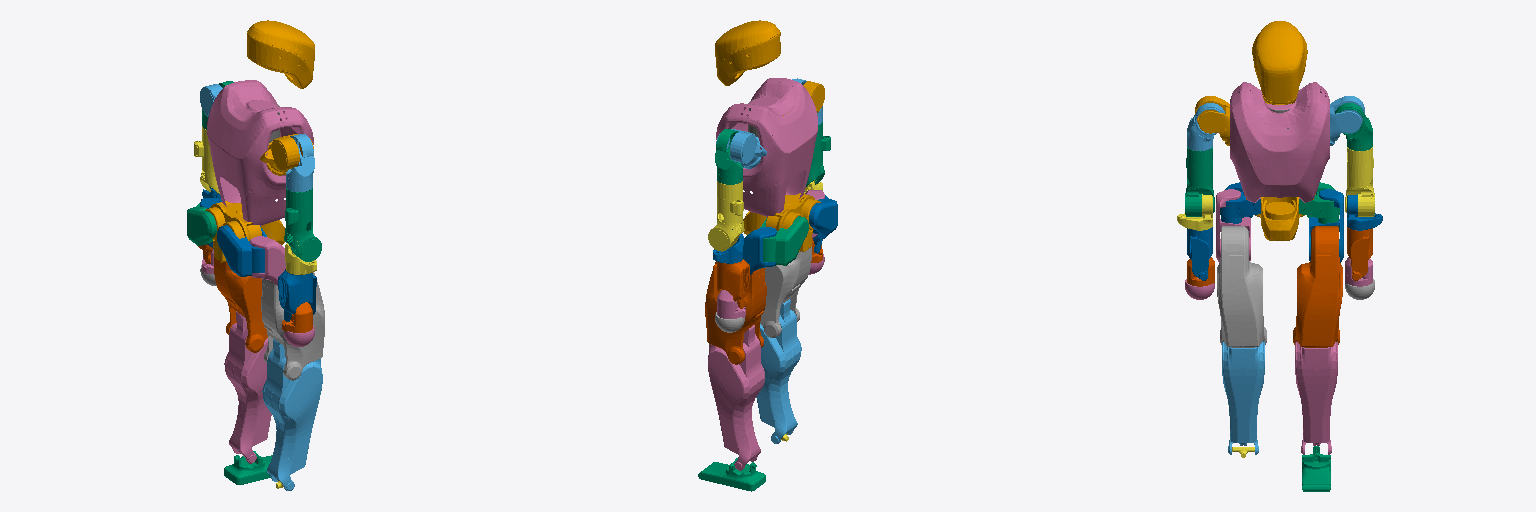
--- Render facts (derived) ---
The picture shows the robot from 3 angles, left to right: view 1: azimuth 30°, elevation 25°; view 2: azimuth 150°, elevation 25°; view 3: azimuth 270°, elevation 25°; orthographic projection.
Model Alexander with 41 links and 40 joints (29 revolute, 11 fixed), rooted at PELVIS_LINK, posed all joints at 0.
Visible links, largest first — view 1: TORSO_LINK, RIGHT_SHIN, LEFT_SHIN, HEAD_LINK, RIGHT_THIGH, LEFT_THIGH, RIGHT_SHOULDER_Z_LINK, PELVIS_LINK, RIGHT_HIP_X_LINK, RIGHT_WRIST_Z_LINK, RIGHT_SHOULDER_X_LINK, RIGHT_SHOULDER_Y_LINK (+6 smaller); view 2: TORSO_LINK, LEFT_SHIN, RIGHT_SHIN, HEAD_LINK, LEFT_THIGH, RIGHT_THIGH, LEFT_SHOULDER_Z_LINK, PELVIS_LINK, LEFT_HIP_X_LINK, LEFT_FOOT, LEFT_WRIST_Z_LINK, LEFT_SHOULDER_X_LINK (+5 smaller); view 3: TORSO_LINK, LEFT_THIGH, RIGHT_THIGH, HEAD_LINK, LEFT_SHIN, RIGHT_SHIN, LEFT_SHOULDER_Z_LINK, RIGHT_SHOULDER_Z_LINK, PELVIS_LINK, LEFT_FOOT, LEFT_WRIST_Z_LINK, RIGHT_WRIST_Z_LINK (+10 smaller).
Link boxes in pixels (box(x1,y1,x2,y2)): TORSO_LINK: box(207, 80, 313, 225); RIGHT_SHIN: box(262, 339, 322, 490); LEFT_SHIN: box(224, 311, 271, 463); HEAD_LINK: box(247, 20, 314, 88); RIGHT_THIGH: box(261, 272, 324, 380); LEFT_THIGH: box(214, 257, 267, 352); RIGHT_SHOULDER_Z_LINK: box(284, 188, 321, 261); PELVIS_LINK: box(205, 201, 284, 262); RIGHT_HIP_X_LINK: box(217, 225, 266, 276); RIGHT_WRIST_Z_LINK: box(278, 269, 316, 321); RIGHT_SHOULDER_X_LINK: box(286, 134, 314, 191); RIGHT_SHOULDER_Y_LINK: box(260, 134, 313, 175); TORSO_LINK: box(716, 78, 817, 216); LEFT_SHIN: box(708, 325, 764, 470); RIGHT_SHIN: box(756, 299, 801, 443); HEAD_LINK: box(715, 20, 780, 85); LEFT_THIGH: box(705, 261, 766, 364); RIGHT_THIGH: box(760, 246, 811, 337); LEFT_SHOULDER_Z_LINK: box(708, 181, 744, 251); PELVIS_LINK: box(743, 193, 820, 251); LEFT_HIP_X_LINK: box(760, 216, 808, 265); LEFT_FOOT: box(698, 458, 765, 491); LEFT_WRIST_Z_LINK: box(713, 259, 749, 308); LEFT_SHOULDER_X_LINK: box(715, 129, 742, 184); TORSO_LINK: box(1230, 82, 1329, 202); LEFT_THIGH: box(1293, 226, 1342, 347); RIGHT_THIGH: box(1217, 226, 1266, 347); HEAD_LINK: box(1252, 21, 1307, 104); LEFT_SHIN: box(1295, 341, 1337, 454); RIGHT_SHIN: box(1222, 341, 1264, 454); LEFT_SHOULDER_Z_LINK: box(1345, 147, 1374, 216); RIGHT_SHOULDER_Z_LINK: box(1185, 147, 1214, 216); PELVIS_LINK: box(1244, 194, 1315, 240); LEFT_FOOT: box(1302, 446, 1330, 491); LEFT_WRIST_Z_LINK: box(1347, 227, 1372, 280); RIGHT_WRIST_Z_LINK: box(1187, 227, 1212, 280).
Size in the robot's own frame: 0.3595 by 0.6749 by 1.63 metres.
Meshes: 29 distinct files referenced, 29 mesh visuals loaded (27 OBJ); not drawn: 2 (reference not matched to a file when rendering).

robot.urdf — Alexander:
<?xml version = "1.0" ?>
<robot name="Alexander">

    <!-- NECK JOINTS -->
    <joint name="NECK_Z" type="revolute">
        <origin rpy="0 0 0" xyz="0.005 0 0.307953"/> <!-- placeholder for the joint location -->
        <axis xyz="0 0 1"/>
        <parent link="TORSO_LINK"/>
        <child link="NECK_Z_LINK"/>
        <limit effort="20" lower="-1.5708" upper="1.5708" velocity="20"/>
        <dynamics damping="0.05" friction="0.0"/>
    </joint>
    <joint name="NECK_Y" type="revolute">
        <origin rpy="0 0 0" xyz="0.025 0.01 0.207252"/>
        <axis xyz="0 1 0"/>
        <parent link="NECK_Z_LINK"/>
        <child link="HEAD_LINK"/>
        <limit effort="20" lower="-1.0472" upper="1.0472" velocity="20"/>
        <dynamics damping="0.05" friction="0.0"/>
    </joint>

    <!-- SPINE JOINTS -->
    <joint name="SPINE_Z" type="revolute">
        <origin rpy="0 0 0" xyz="0.0 0 0.018"/> <!-- check with CAD -->
        <axis xyz="0 0 1"/>
        <parent link="PELVIS_LINK"/>
        <child link="TORSO_LINK"/>
        <limit effort="150" lower="-0.5235987756" upper="0.5235987756" velocity="9.0"/>
        <dynamics damping="0.05" friction="0.0"/>
    </joint>

    <!-- LEFT LEG JOINTS -->
    <joint name="LEFT_HIP_X" type="revolute">
        <origin rpy="0 0 0" xyz="-0.162	0.0595	-0.015"/>
        <axis xyz="1 0 0"/>
        <parent link="PELVIS_LINK"/>
        <child link="LEFT_HIP_X_LINK"/>
        <limit effort="150" lower="-0.3490658504 " upper="0.872664626" velocity="9"/>
        <dynamics damping="0.05" friction="0.0"/>
    </joint>
    <joint name="LEFT_HIP_Z" type="revolute">
        <origin rpy="0 0 0" xyz="0.06	0.1	-0.08"/>
        <axis xyz="0 0 1"/>
        <parent link="LEFT_HIP_X_LINK"/>
        <child link="LEFT_HIP_Z_LINK"/>
        <limit effort="60" lower="-0.3490658504" upper="1.0472" velocity="11"/>
        <dynamics damping="0.05" friction="0.0"/>
    </joint>
    <joint name="LEFT_HIP_Y" type="revolute">
        <origin rpy="0 0 0" xyz="0.1045	-0.0573	-0.0525"/>
        <axis xyz="0 1 0"/>
        <parent link="LEFT_HIP_Z_LINK"/>
        <child link="LEFT_THIGH"/>
        <limit effort="200" lower="-2.61799" upper="0.785398" velocity="8"/>
        <dynamics damping="0.05" friction="0.0"/>
    </joint>
    <joint name="LEFT_KNEE_Y" type="revolute">
        <origin rpy="0 0 0" xyz="0	0.018	-0.32"/>
        <axis xyz="0 1 0"/>
        <parent link="LEFT_THIGH"/>
        <child link="LEFT_SHIN"/>
        <limit effort="200" lower="0" upper="2.445206282" velocity="8"/>
        <dynamics damping="0.05" friction="0.0"/>
    </joint>
    <joint name="LEFT_ANKLE_Y" type="revolute">
        <origin rpy="0 0 0" xyz="0	0	-0.41"/>
        <axis xyz="0 1 0"/>
        <parent link="LEFT_SHIN"/>
        <child link="LEFT_ANKLE_Y_LINK"/>
        <limit effort="180" lower="-1.0472" upper="0.523599" velocity="8"/>
        <dynamics damping="0.05" friction="0.0"/>
    </joint>
    <joint name="LEFT_ANKLE_X" type="revolute">
        <origin rpy="0 0 0" xyz="0	0	-0.012"/>
        <axis xyz="1 0 0"/>
        <parent link="LEFT_ANKLE_Y_LINK"/>
        <child link="LEFT_FOOT"/>
        <limit effort="90" lower="-0.436332" upper="0.436332" velocity="8"/>
        <dynamics damping="0.05" friction="0.0"/>
    </joint>

    <!-- RIGHT LEG JOINTS -->
    <joint name="RIGHT_HIP_X" type="revolute">
        <origin rpy="0 0 0" xyz="-0.162	-0.0595	-0.015"/>
        <axis xyz="1 0 0"/>
        <parent link="PELVIS_LINK"/>
        <child link="RIGHT_HIP_X_LINK"/>
        <limit effort="150" lower="-0.872664626" upper="0.3490658504" velocity="9"/>
        <dynamics damping="0.05" friction="0.0"/>
    </joint>
    <joint name="RIGHT_HIP_Z" type="revolute">
        <origin rpy="0 0 0" xyz="0.06	-0.1	-0.08"/>
        <axis xyz="0 0 1"/>
        <parent link="RIGHT_HIP_X_LINK"/>
        <child link="RIGHT_HIP_Z_LINK"/>
        <limit effort="60" lower="-1.0472" upper="0.3490658504" velocity="11"/>
        <dynamics damping="0.05" friction="0.0"/>
    </joint>
    <joint name="RIGHT_HIP_Y" type="revolute">
        <origin rpy="0 0 0" xyz="0.1045	0.0573	-0.0525"/>
        <axis xyz="0 1 0"/>
        <parent link="RIGHT_HIP_Z_LINK"/>
        <child link="RIGHT_THIGH"/>
        <limit effort="200" lower="-2.61799" upper="0.785398" velocity="8"/>
        <dynamics damping="0.05" friction="0.0"/>
    </joint>
    <joint name="RIGHT_KNEE_Y" type="revolute">
        <origin rpy="0 0 0" xyz="0	-0.018	-0.32"/>
        <axis xyz="0 1 0"/>
        <parent link="RIGHT_THIGH"/>
        <child link="RIGHT_SHIN"/>
        <limit effort="200" lower="0" upper="2.445206282" velocity="8"/>
        <dynamics damping="0.05" friction="0.0"/>
    </joint>
    <joint name="RIGHT_ANKLE_Y" type="revolute">
        <origin rpy="0 0 0" xyz="0	0	-0.41"/>
        <axis xyz="0 1 0"/>
        <parent link="RIGHT_SHIN"/>
        <child link="RIGHT_ANKLE_Y_LINK"/>
        <limit effort="180" lower="-1.0472" upper="0.523599" velocity="8"/>
        <dynamics damping="0.05" friction="0.0"/>
    </joint>
    <joint name="RIGHT_ANKLE_X" type="revolute">
        <origin rpy="0 0 0" xyz="0	0	-0.012"/>
        <axis xyz="1 0 0"/>
        <parent link="RIGHT_ANKLE_Y_LINK"/>
        <child link="RIGHT_FOOT"/>
        <limit effort="90" lower="-0.436332" upper="0.436332" velocity="8"/>
        <dynamics damping="0.05" friction="0.0"/>
    </joint>


    <!-- LINKS -->
    <link name="PELVIS_LINK">
        <inertial>
            <mass value="9.50083635"/>
            <origin rpy="0 0 0" xyz="-0.08354287 0.00005291 -0.03484828"/>
            <inertia ixx="0.03428688" ixy="0.00001151" ixz="0.00015935" iyy="0.05178848" iyz="0.00004514" izz="0.06001929"/>
        </inertial>
        <visual>
            <geometry>
                <mesh filename="package://alexander_V1_description/meshes/legs/pelvis.obj"/>
            </geometry>
            <origin rpy="0.0 0.0 0.0" xyz="0.0 0.0 0.0"/>
        </visual>
    </link>
    <!-- pelvis_stim_imu -->
    <joint name="PELVIS_STIM_IMU_JOINT" type="fixed">
        <parent link="PELVIS_LINK"/>
        <child link="PELVIS_STIM_IMU_LINK"/>
        <origin xyz="-0.08687724 0.01225028 -0.08051472" rpy="0.0 0.0 1.570796"/>
    </joint>

    <link name="PELVIS_STIM_IMU_LINK">
        <inertial>
            <mass value="0.0"/>
            <origin xyz="0 0 0" rpy="0 0 0"/>
            <inertia ixx="0.0" ixy="0.0" ixz="0.0" iyy="0.0" iyz="0.0" izz="0.0"/>
        </inertial>
    </link>

    <gazebo reference="PELVIS_STIM_IMU_LINK">
        <sensor name="pelvis_stim_imu" type="imu">
            <always_on>1</always_on>
            <update_rate>1000.0</update_rate>
            <imu>
                <noise>
                    <type>gaussian</type>
                    <rate>
                        <mean>0.0</mean>
                        <stddev>2e-4</stddev>
                        <bias_mean>0.0000075</bias_mean>
                        <bias_stddev>0.0000008</bias_stddev>
                    </rate>
                    <accel>
                        <mean>0.0</mean>
                        <stddev>1.7e-2</stddev>
                        <bias_mean>0.1</bias_mean>
                        <bias_stddev>0.001</bias_stddev>
                    </accel>
                </noise>
            </imu>
        </sensor>
    </gazebo>
    <!-- end pelvis imu -->

    <!-- LEFT LEG LINKS -->
    <link name="LEFT_HIP_X_LINK">
        <inertial>
            <mass value="2.32977961"/>
            <origin rpy="0 0 0" xyz="0.04350911	0.08708606 -0.03525761"/>
            <inertia ixx="0.00467452" ixy="-0.00058626" ixz="0.00013124" iyy="0.00516613" iyz="0.00048141" izz="0.00553124"/>
        </inertial>
        <visual>
            <geometry>
                <mesh filename="package://alexander_V1_description/meshes/legs/left_hip_roll.obj"/>
            </geometry>
            <origin rpy="0.0 0.0 0.0" xyz="0.0 0.0 0.0"/>
        </visual>
    </link>
    
    <!-- LeftHipRollIMU-->
	<link name="LEFT_HIP_X_IMU_LINK">
		<inertial>
			<mass value="0"/>
			<origin rpy="0 0 0" xyz="0 0 0"/>
			<inertia ixx="0.0" ixy="0.0" ixz="0.0" iyy="0.0" iyz="0.0" izz="0.0"/>
		</inertial>
	</link>
	<joint name="LEFT_HIP_X_IMU_JOINT" type="fixed">
		<origin rpy="-1.570796 0 1.570796" xyz="-0.01922309 0.10145013 -0.01488788"/>
		<axis xyz="0 0 1"/>
		<parent link="LEFT_HIP_X_LINK"/>
		<child link="LEFT_HIP_X_IMU_LINK"/>
	</joint>
	<gazebo reference="LEFT_HIP_X_IMU_JOINT">
		<sensor name="left_hip_x_IMU" type="imu">
			<always_on>true</always_on>
			<imu>
				<noise>
					<type>gaussian</type>
					<rate>
						<mean>0</mean>
						<stddev>0.0002</stddev>
						<bias_mean>7.5e-06</bias_mean>
						<bias_stddev>8e-07</bias_stddev>
					</rate>
					<accel>
						<mean>0</mean>
						<stddev>0.017</stddev>
						<bias_mean>0.1</bias_mean>
						<bias_stddev>0.001</bias_stddev>
					</accel>
				</noise>
			</imu>
		</sensor>
	</gazebo>
    
    
    <link name="LEFT_HIP_Z_LINK">
         <inertial>
             <mass value="0.77281362"/>
             <origin rpy="0 0 0" xyz="0.04549595	-0.00525571	-0.00937454"/>
             <inertia ixx="0.00317639" ixy="0.00005807" ixz="0.00080598" iyy="0.00345182" iyz="0.00047441" izz="0.00313245"/>
         </inertial>
         <visual>
             <geometry>
                 <mesh filename="package://alexander_V1_description/meshes/legs/left_hip_yaw.obj"/>
             </geometry>
             <origin rpy="0.0 0.0 0.0" xyz="0 0 0"/>
         </visual>
     </link>
     <link name="LEFT_THIGH">
         <inertial>
             <mass value="7.75"/><!-- CAD Mass 6.31087157 (Hacked April 1 2025 to match IRL Scale of whole robot) -->
             <origin rpy="0 0 0" xyz="0.01417302	0.03268781	-0.10548314"/>
             <inertia ixx="0.09264028" ixy="0.00038532" ixz="0.00916409" iyy="0.09733033" iyz="-0.0043516" izz="0.02803877"/>
         </inertial>
         <visual>
             <geometry>
                 <mesh filename="package://alexander_V1_description/meshes/legs/left_thigh.obj"/>
             </geometry>
             <origin rpy="0.0 0.0 0.0" xyz="0 0 0"/>
         </visual>
     </link>
    <link name="LEFT_SHIN">
        <inertial>
            <mass value="5.5"/><!-- CAD Mass 6.31087157 (Hacked April 1 2025 to match IRL Scale of whole robot) -->
            <origin rpy="0 0 0" xyz="0.03807965	-0.00108105	-0.12410027"/>
            <inertia ixx="0.08823148" ixy="-0.00054706" ixz="-0.00634132" iyy="0.09163264" iyz="0.00002714" izz="0.01569601"/>
        </inertial>
        <visual>
            <geometry>
                <mesh filename="package://alexander_V1_description/meshes/legs/left_shin.obj"/>
            </geometry>
            <origin rpy="0.0 0.0 0.0" xyz="0 0 0"/>
        </visual>
    </link>
    
    <!-- LeftThighIMU-->
    <link name="LEFT_THIGH_IMU_LINK">
        <inertial>
            <mass value="0"/>
            <origin rpy="0 0 0" xyz="0 0 0"/>
            <inertia ixx="0.0" ixy="0.0" ixz="0.0" iyy="0.0" iyz="0.0" izz="0.0"/>
        </inertial>
    </link>
    <joint name="LEFT_THIGH_IMU_JOINT" type="fixed">
        <origin rpy="1.6947717585 0 1.570796" xyz="0.10004 0.03746 -0.21194"/>
        <axis xyz="0 0 1"/>
        <parent link="LEFT_THIGH"/>
        <child link="LEFT_THIGH_IMU_LINK"/>
    </joint>
    <gazebo reference="LEFT_THIGH_IMU_LINK">
        <sensor name="left_thigh_imu" type="imu">
            <always_on>true</always_on>
            <imu>
                <noise>
                    <type>gaussian</type>
                    <rate>
                        <mean>0</mean>
                        <stddev>0.0002</stddev>
                        <bias_mean>7.5e-06</bias_mean>
                        <bias_stddev>8e-07</bias_stddev>
                    </rate>
                    <accel>
                        <mean>0</mean>
                        <stddev>0.017</stddev>
                        <bias_mean>0.1</bias_mean>
                        <bias_stddev>0.001</bias_stddev>
                    </accel>
                </noise>
            </imu>
        </sensor>
    </gazebo>
    
    <!-- LeftShinIMU-->
	<link name="LEFT_SHIN_IMU_LINK">
		<inertial>
			<mass value="0"/>
			<origin rpy="0 0 0" xyz="0 0 0"/>
			<inertia ixx="0.0" ixy="0.0" ixz="0.0" iyy="0.0" iyz="0.0" izz="0.0"/>
		</inertial>
	</link>
	<joint name="LEFT_SHIN_IMU_JOINT" type="fixed">
		<origin rpy="1.403695170631842 0 -1.570796" xyz="0.05655120 0.00084826 -0.15664831"/>
		<axis xyz="0 0 1"/>
		<parent link="LEFT_SHIN"/>
		<child link="LEFT_SHIN_IMU_LINK"/>
	</joint>
	<gazebo reference="LEFT_SHIN_IMU_LINK">
		<sensor name="left_shin_imu" type="imu">
			<always_on>true</always_on>
			<imu>
				<noise>
					<type>gaussian</type>
					<rate>
						<mean>0</mean>
						<stddev>0.0002</stddev>
						<bias_mean>7.5e-06</bias_mean>
						<bias_stddev>8e-07</bias_stddev>
					</rate>
					<accel>
						<mean>0</mean>
						<stddev>0.017</stddev>
						<bias_mean>0.1</bias_mean>
						<bias_stddev>0.001</bias_stddev>
					</accel>
				</noise>
			</imu>
		</sensor>
	</gazebo>

    
    <link name="LEFT_ANKLE_Y_LINK">
        <inertial>
            <mass value="0.05045632"/>
            <origin rpy="0 0 0" xyz="2.94E-07	2.22E-07	-0.00462997"/>
            <inertia ixx="0.00001733" ixy="2.12E-10" ixz="-1.26E-10" iyy="0.00000714" iyz="-2.02E-11" izz="0.00001851"/>
        </inertial>
        <visual>
            <geometry>
                <mesh filename="package://alexander_V1_description/meshes/legs/left_ankle.obj"/>
            </geometry>
            <origin rpy="0.0 0.0 0.0" xyz="0 0 0"/>
        </visual>
    </link>
    <link name="LEFT_FOOT">
        <inertial>
            <mass value="1.28288609"/>
            <origin rpy="0 0 0" xyz="0.03793372	-0.00000219	-0.0443663"/>
            <inertia ixx="0.00131328" ixy="0.00001057" ixz="0.00036242" iyy="0.00385286" iyz="-0.0000069" izz="0.00406301"/>
        </inertial>
        <visual>
            <geometry>
                <mesh filename="package://alexander_V1_description/meshes/legs/left_foot.obj"/>
            </geometry>
            <origin rpy="0.0 0.0 0.0" xyz="0 0 0"/>
        </visual>
    </link>
    
    <!-- LeftFootIMU-->
	<link name="LEFT_FOOT_IMU_LINK">
		<inertial>
			<mass value="0"/>
			<origin rpy="0 0 0" xyz="0 0 0"/>
			<inertia ixx="0.0" ixy="0.0" ixz="0.0" iyy="0.0" iyz="0.0" izz="0.0"/>
		</inertial>
	</link>
	<joint name="LEFT_FOOT_IMU_JOINT" type="fixed">
		<origin rpy="0 0 1.570796" xyz="-0.03575526 0.01180178 -0.04979705"/>
		<axis xyz="0 0 1"/>
		<parent link="LEFT_FOOT"/>
		<child link="LEFT_FOOT_IMU_LINK"/>
	</joint>
	<gazebo reference="LEFT_FOOT_IMU_LINK">
		<sensor name="left_foot_imu" type="imu">
			<always_on>true</always_on>
			<imu>
				<noise>
					<type>gaussian</type>
					<rate>
						<mean>0</mean>
						<stddev>0.0002</stddev>
						<bias_mean>7.5e-06</bias_mean>
						<bias_stddev>8e-07</bias_stddev>
					</rate>
					<accel>
						<mean>0</mean>
						<stddev>0.017</stddev>
						<bias_mean>0.1</bias_mean>
						<bias_stddev>0.001</bias_stddev>
					</accel>
				</noise>
			</imu>
		</sensor>
	</gazebo>


    <!-- RIGHT LEG LINKS -->
    <link name="RIGHT_HIP_X_LINK">
        <inertial>
            <mass value="2.32977248"/>
            <origin rpy="0 0 0" xyz="0.04351957	-0.08688935	-0.03525357"/>
            <inertia ixx="0.00467576" ixy="0.00061004" ixz="0.00013038" iyy="0.00516385" iyz="-0.00047381" izz="0.00552901"/>
        </inertial>
        <visual>
            <geometry>
                <mesh filename="package://alexander_V1_description/meshes/legs/right_hip_roll.obj"/>
            </geometry>
            <origin rpy="0.0 0.0 0.0" xyz="0.0 0.0 0.0"/>
        </visual>
    </link>

    <!-- RightHipRollIMU-->
	<link name="RIGHT_HIP_X_IMU_LINK">
		<inertial>
			<mass value="0"/>
			<origin rpy="0 0 0" xyz="0 0 0"/>
			<inertia ixx="0.0" ixy="0.0" ixz="0.0" iyy="0.0" iyz="0.0" izz="0.0"/>
		</inertial>
	</link>
	<joint name="RIGHT_HIP_ROLL_IMU_JOINT" type="fixed">
		<origin rpy="-1.570796 0 1.570796" xyz="-0.01922309 -0.07694987 -0.01488788"/>
		<axis xyz="0 0 1"/>
		<parent link="RIGHT_HIP_X_LINK"/>
		<child link="RIGHT_HIP_X_IMU_LINK"/>
	</joint>
	<gazebo reference="RIGHT_HIP_X_IMU_LINK">
		<sensor name="right_hip_x_imu" type="imu">
			<always_on>true</always_on>
			<imu>
				<noise>
					<type>gaussian</type>
					<rate>
						<mean>0</mean>
						<stddev>0.0002</stddev>
						<bias_mean>7.5e-06</bias_mean>
						<bias_stddev>8e-07</bias_stddev>
					</rate>
					<accel>
						<mean>0</mean>
						<stddev>0.017</stddev>
						<bias_mean>0.1</bias_mean>
						<bias_stddev>0.001</bias_stddev>
					</accel>
				</noise>
			</imu>
		</sensor>
	</gazebo>

    <link name="RIGHT_HIP_Z_LINK">
        <inertial>
            <mass value="0.77281055"/>
            <origin rpy="0 0 0" xyz="0.04549274	0.00525784	-0.00937505"/>
            <inertia ixx="0.00317639" ixy="-0.00005765" ixz="0.00080587" iyy="0.00345166" iyz="-0.00047466" izz="0.00313223"/>
        </inertial>
        <visual>
            <geometry>
                <mesh filename="package://alexander_V1_description/meshes/legs/right_hip_yaw.obj"/>
            </geometry>
            <origin rpy="0.0 0.0 0.0" xyz="0 0 0"/>
        </visual>
    </link>
    <link name="RIGHT_THIGH">
        <inertial>
            <mass value="7.75"/><!-- CAD Mass 6.31087157 (Hacked April 1 2025 to match IRL Scale of whole robot) -->
            <origin rpy="0 0 0" xyz="0.01411846	-0.03282392	-0.10542795"/>
            <inertia ixx="0.09273162" ixy="-0.00026689" ixz="0.00921343" iyy="0.09738701" iyz="0.00422485" izz="0.02802165"/>
        </inertial>
        <visual>
            <geometry>
                <mesh filename="package://alexander_V1_description/meshes/legs/right_thigh.obj"/>
            </geometry>
            <origin rpy="0.0 0.0 0.0" xyz="0 0 0"/>
        </visual>
    </link>

    <!-- RightThighIMU-->
	<link name="RIGHT_THIGH_IMU_LINK">
		<inertial>
			<mass value="0"/>
			<origin rpy="0 0 0" xyz="0 0 0"/>
			<inertia ixx="0.0" ixy="0.0" ixz="0.0" iyy="0.0" iyz="0.0" izz="0.0"/>
		</inertial>
	</link>
	<joint name="RIGHT_THIGH_IMU_JOINT" type="fixed">
		<origin rpy="1.6947717585 0 1.570796" xyz="0.10003618 -0.033541826 -0.21194191"/>
		<axis xyz="0 0 1"/>
		<parent link="RIGHT_THIGH"/>
		<child link="RIGHT_THIGH_IMU_LINK"/>
	</joint>
	<gazebo reference="RIGHT_THIGH_IMU_LINK">
		<sensor name="right_thigh_imu" type="imu">
			<always_on>true</always_on>
			<imu>
				<noise>
					<type>gaussian</type>
					<rate>
						<mean>0</mean>
						<stddev>0.0002</stddev>
						<bias_mean>7.5e-06</bias_mean>
						<bias_stddev>8e-07</bias_stddev>
					</rate>
					<accel>
						<mean>0</mean>
						<stddev>0.017</stddev>
						<bias_mean>0.1</bias_mean>
						<bias_stddev>0.001</bias_stddev>
					</accel>
				</noise>
			</imu>
		</sensor>
	</gazebo>

    <link name="RIGHT_SHIN">
        <inertial>
            <mass value="5.5"/><!-- CAD Mass 6.31087157 (Hacked April 1 2025 to match IRL Scale of whole robot) -->
            <origin rpy="0 0 0" xyz="0.03807648	0.00113375	-0.12408765"/>
            <inertia ixx="0.08705693" ixy="0.00057277" ixz="-0.00674654" iyy="0.090231" iyz="0.00028332" izz="0.01554032"/>
        </inertial>
        <visual>
            <geometry>
                <mesh filename="package://alexander_V1_description/meshes/legs/right_shin.obj"/>
            </geometry>
            <origin rpy="0.0 0.0 0.0" xyz="0 0 0"/>
        </visual>
    </link>

    <!-- RightShinIMU-->
	<link name="RIGHT_SHIN_IMU_LINK">
		<inertial>
			<mass value="0"/>
			<origin rpy="0 0 0" xyz="0 0 0"/>
			<inertia ixx="0.0" ixy="0.0" ixz="0.0" iyy="0.0" iyz="0.0" izz="0.0"/>
		</inertial>
	</link>
	<joint name="RIGHT_SHIN_IMU_JOINT" type="fixed">
		<origin rpy="1.403695170631842 0 -1.570796" xyz="0.05673025 -0.00875818 -0.15674961"/>
		<axis xyz="0 0 1"/>
		<parent link="RIGHT_SHIN"/>
		<child link="RIGHT_SHIN_IMU_LINK"/>
	</joint>
	<gazebo reference="RIGHT_SHIN_IMU_LINK">
		<sensor name="right_shin_imu" type="imu">
			<always_on>true</always_on>
			<imu>
				<noise>
					<type>gaussian</type>
					<rate>
						<mean>0</mean>
						<stddev>0.0002</stddev>
						<bias_mean>7.5e-06</bias_mean>
						<bias_stddev>8e-07</bias_stddev>
					</rate>
					<accel>
						<mean>0</mean>
						<stddev>0.017</stddev>
						<bias_mean>0.1</bias_mean>
						<bias_stddev>0.001</bias_stddev>
					</accel>
				</noise>
			</imu>
		</sensor>
	</gazebo>


    <link name="RIGHT_ANKLE_Y_LINK">
        <inertial>
            <mass value="0.05045632"/>
            <origin rpy="0 0 0" xyz="2.94E-07	2.22E-07	-0.00462997"/>
            <inertia ixx="0.00001733" ixy="2.12E-10" ixz="-1.26E-10" iyy="0.00000714" iyz="-2.02E-11" izz="0.00001851"/>
        </inertial>
        <visual>
            <geometry>
                <mesh filename="package://alexander_V1_description/meshes/legs/right_ankle.obj"/>
            </geometry>
            <origin rpy="0.0 0.0 0.0" xyz="0 0 0"/>
        </visual>
    </link>
    <link name="RIGHT_FOOT">
        <inertial>
            <mass value="1.28288609"/>
            <origin rpy="0 0 0" xyz="0.03793372	-0.00000219	-0.0443663"/>
            <inertia ixx="0.00131328" ixy="0.00001057" ixz="0.00036242" iyy="0.00385286" iyz="-0.0000069" izz="0.00406301"/>
        </inertial>
        <visual>
            <geometry>
                <mesh filename="package://alexander_V1_description/meshes/legs/right_foot.obj"/>
            </geometry>
            <origin rpy="0.0 0.0 0.0" xyz="0 0 0"/>
        </visual>
    </link>

    <!-- RightFootIMU-->
	<link name="RIGHT_FOOT_IMU_LINK">
		<inertial>
			<mass value="0"/>
			<origin rpy="0 0 0" xyz="0 0 0"/>
			<inertia ixx="0.0" ixy="0.0" ixz="0.0" iyy="0.0" iyz="0.0" izz="0.0"/>
		</inertial>
	</link>
	<joint name="RIGHT_FOOT_IMU_JOINT" type="fixed">
		<origin rpy="0 0 1.570796" xyz="-0.03575526 0.01180178 -0.04979705"/>
		<axis xyz="0 0 1"/>
		<parent link="RIGHT_FOOT"/>
		<child link="RIGHT_FOOT_IMU_LINK"/>
	</joint>
	<gazebo reference="RIGHT_FOOT_IMU_LINK">
		<sensor name="right_foot_imu" type="imu">
			<always_on>true</always_on>
			<imu>
				<noise>
					<type>gaussian</type>
					<rate>
						<mean>0</mean>
						<stddev>0.0002</stddev>
						<bias_mean>7.5e-06</bias_mean>
						<bias_stddev>8e-07</bias_stddev>
					</rate>
					<accel>
						<mean>0</mean>
						<stddev>0.017</stddev>
						<bias_mean>0.1</bias_mean>
						<bias_stddev>0.001</bias_stddev>
					</accel>
				</noise>
			</imu>
		</sensor>
	</gazebo>

    <!-- SPINE LINKS -->
    <link name="TORSO_LINK">
        <inertial>
            <mass value="4.208"/> <!-- This probably needs to be updated  -->
            <origin rpy="0 0 0" xyz="-0.034 0.0 0.297"/>
            <inertia ixx="0.077" ixy="9.64E-06" ixz="0.008" iyy="0.068" iyz="7.24E-06" izz="0.033"/>
        </inertial>
        <visual>
            <geometry>
                <mesh filename="package://alexander_V1_description/meshes/torso.obj"/>
            </geometry>
            <origin rpy="0.0 0.0 0.0" xyz="0.0 0.0 0.0"/>
        </visual>
    </link>

    <!-- NECK & Head LINKS -->
       <link name="NECK_Z_LINK">
            <inertial>
                <mass value="1.141"/>
                <origin rpy="0 0 0" xyz="0.007143 0.006943 0.109823"/>
                <inertia ixx="0.007475898" ixy="-0.000075723" ixz="-0.000745362" iyy="0.007407578" iyz="-0.000436948" izz="0.00109269"/>
            </inertial>
            <visual>
                <geometry>
                    <cylinder radius="0.05" length="0.1"/>
                </geometry>
                <material name="gray">
                    <color rgba="0.5 0.5 0.5 1.0"/>
                </material>
                <origin rpy="0.0 0.0 0.0" xyz="0 0 0.0"/>
            </visual>
        </link>
        <link name="HEAD_LINK">
            <inertial>
                <mass value="1.677"/>
                <origin rpy="0 0 0" xyz="0.03237 -0.013568 0.007163"/>
                <inertia ixx="0.006026191" ixy="-0.000197484" ixz="0.001813659" iyy="0.008182071" iyz="-0.000042529" izz="0.00644909"/>
            </inertial>
            <visual>
                <geometry>
                    <mesh filename="package://alexander_V1_description/meshes/ALX02_01_A02_HeadLink.obj"/>
                </geometry>
                <origin rpy="0.0 0.0 0.0" xyz="0.0 0.0 0.0"/>
            </visual>
        </link>-


    <!-- Left Arm -->
    <joint name="LEFT_SHOULDER_Y" type="revolute">
        <origin xyz="-0.02 0.1 0.214" rpy="0.698132 0.0 0.0"/>
        <axis xyz="0.0 1.0 0.0"/>
        <parent link="TORSO_LINK"/>
        <child link="LEFT_SHOULDER_Y_LINK"/>
        <limit effort="150.0" lower="-3.141592" upper="1.22173" velocity="9.0"/>
        <dynamics damping="0.05" friction="0.0"/>
    </joint>

    <link name="LEFT_SHOULDER_Y_LINK">
        <inertial>
            <mass value="2.99"/>
            <origin rpy="0 0 0" xyz="-0.00264 0.12135 -0.006824"/>
            <inertia ixx="0.0111046" ixy="0.0002882" ixz="-0.000054" iyy="0.0051699" iyz="0.0009318" izz="0.01176"/>
        </inertial>
        <visual>
            <geometry>
                <mesh filename="package://alexander_V1_description/meshes/cycloidal_arm/LeftShoulderPitchLink.obj"/>
            </geometry>
            <origin rpy="0.0 0.0 0.0" xyz="0.0 0.0 0.0"/>
        </visual>
    </link>

    <joint name="LEFT_SHOULDER_X" type="revolute">
        <origin rpy="-0.698132 0.0 0.0" xyz="0.0 0.15676000 -0.01300000"/>
        <axis xyz="1 0 0"/>
        <parent link="LEFT_SHOULDER_Y_LINK"/>
        <child link="LEFT_SHOULDER_X_LINK"/>
        <limit effort="150.0" lower="-0.349066" upper="2.79253" velocity="9.0"/>
        <dynamics damping="0.05" friction="0.0"/>
    </joint>

    <link name="LEFT_SHOULDER_X_LINK">
        <inertial>
            <mass value="0.972"/>
            <origin rpy="0 0 0" xyz="0.01251711 0.0188309 -0.03849849"/>
            <inertia ixx="0.0029485" ixy="0.0001386" ixz="-0.0003345" iyy="0.0023587" iyz="0.0005255" izz="0.0014366"/>
        </inertial>
        <visual>
            <geometry>
                <mesh filename="package://alexander_V1_description/meshes/cycloidal_arm/LeftShoulderRollLink_shortBicep.obj"/>
            </geometry>
            <origin rpy="0.0 0.0 0.0" xyz="0.0 0.0 0.0"/>
        </visual>
    </link>

    <joint name="LEFT_SHOULDER_Z" type="revolute">
        <origin rpy="0.0 0.0 0.0" xyz="0.0 0.035 0.0"/>
        <axis xyz="0.0 0.0 1.0"/>
        <parent link="LEFT_SHOULDER_X_LINK"/>
        <child link="LEFT_SHOULDER_Z_LINK"/>
        <limit effort="80.0" lower="-1.91986" upper="1.22173" velocity="11.5"/>
        <dynamics damping="0.05" friction="0.0"/>
    </joint>

    <link name="LEFT_SHOULDER_Z_LINK">
        <inertial>
            <mass value="2.91"/>
            <origin rpy="0 0 0" xyz="0.00510403 0.00314332 -0.21695413"/>
            <inertia ixx="0.0267829" ixy="-0.000011" ixz="0.0015998" iyy="0.0265514" iyz="0.0004426" izz="0.003052"/>
        </inertial>
        <visual>
            <geometry>
                <mesh filename="package://alexander_V1_description/meshes/cycloidal_arm/LeftShoulderYawLink.obj"/>
            </geometry>
            <origin rpy="0.0 0.0 0.0" xyz="0.0 0.0 0.0867"/>
        </visual>
    </link>

    <joint name="LEFT_ELBOW_Y" type="revolute">
        <origin rpy="0.0 0.0 0.0" xyz="0.015 0.0 -0.3127"/>
        <axis xyz="0.0 1.0 0.0"/>
        <parent link="LEFT_SHOULDER_Z_LINK"/>
        <child link="LEFT_ELBOW_Y_LINK"/>
        <limit effort="80.0" lower="-2.35619" upper="0.174532925" velocity="11.5"/>
        <dynamics damping="0.05" friction="0.0"/>
    </joint>

    <link name="LEFT_ELBOW_Y_LINK">
        <inertial>
            <mass value="0.45"/>
            <origin rpy="0 0 0" xyz="-0.01180322 -0.0035763 -0.04946747"/>
            <inertia ixx="0.0007362" ixy="-0.0000088" ixz="-0.0000292" iyy="0.0006567" iyz="0.0001499" izz="0.0004897"/>
        </inertial>
        <visual>
            <geometry>
                <mesh filename="package://alexander_V1_description/meshes/cycloidal_arm/LeftElbowPitchLink.obj"/>
            </geometry>
            <origin rpy="0.0 0.0 0.0" xyz="0.0 0.0 0.0"/>
        </visual>
    </link>

    <joint name="LEFT_WRIST_Z" type="revolute">
        <origin xyz="-0.015 0.0 0.0" rpy="0.0 0.0 0.0"/>
        <axis xyz="0.0 0.0 1.0"/>
        <parent link="LEFT_ELBOW_Y_LINK"/>
        <child link="LEFT_WRIST_Z_LINK"/>
        <limit effort="20.0" lower="-2.61799" upper="2.61799" velocity="25.0"/>
        <dynamics damping="0.05" friction="0.0"/>
    </joint>

    <link name="LEFT_WRIST_Z_LINK">
        <inertial>
            <mass value="1.547"/> <!-- This is a measured value. Refer to https://docs.google.com/spreadsheets/d/1VXWFJk3VJUsfkHrDaytB2INq94un1KytIOzcKJD0p44/edit?gid=0#gid=0  -->
            <origin rpy="0 0 0" xyz="-0.00263832 -0.00050534 -0.13018376"/>
            <inertia ixx="0.0037869" ixy="0.0000163" ixz="-0.0000252" iyy="0.004071" iyz="-0.0000924" izz="0.0015203"/>
        </inertial>
        <visual>
            <geometry>
                <mesh filename="package://alexander_V1_description/meshes/cycloidal_arm/LeftWristYawLink.obj"/>
            </geometry>
            <origin rpy="0.0 0.0 0.0" xyz="0.0 0.0 0.0"/>
        </visual>
    </link>

    <joint name="LEFT_WRIST_X" type="revolute">
        <origin xyz="0.0 -0.013 -0.25" rpy="0.0 0.0 0.0"/>
        <axis xyz="1 0 0"/>
        <parent link="LEFT_WRIST_Z_LINK"/>
        <child link="LEFT_WRIST_X_LINK"/>
        <limit effort="20.0" lower="-1.8326" upper="0.610865" velocity="25.0"/>
        <dynamics damping="0.05" friction="0.0"/>
    </joint>

    <link name="LEFT_WRIST_X_LINK">
        <inertial>
            <mass value="0.909"/> <!-- This is a measured value. Refer to https://docs.google.com/spreadsheets/d/1VXWFJk3VJUsfkHrDaytB2INq94un1KytIOzcKJD0p44/edit?gid=0#gid=0  -->
            <origin rpy="0 0 0" xyz="0.00004053 0.01038395 0.00035532"/>
            <inertia ixx="0.000477" ixy="-0.0000079" ixz="-0.0000097" iyy="0.0004902" iyz="-0.0000008" izz="0.000514"/>
        </inertial>
        <visual>
            <geometry>
                <mesh filename="package://alexander_V1_description/meshes/cycloidal_arm/LeftWristRollLink.obj"/>
            </geometry>
            <origin rpy="0.0 0.0 0.0" xyz="0.0 0.0 0.0"/>
        </visual>
    </link>

    <joint name="LEFT_GRIPPER_Z" type="revolute">
        <origin xyz="0.0 0.013 -0.031" rpy="0.0 0.0 0.0"/>
        <axis xyz="0.0 0.0 1.0"/>
        <parent link="LEFT_WRIST_X_LINK"/>
        <child link="LEFT_GRIPPER_Z_LINK"/>
        <limit effort="20.0" lower="-2.61799" upper="2.61799" velocity="25.0"/>
        <dynamics damping="0.05" friction="0.0"/>
    </joint>

    <link name="LEFT_GRIPPER_Z_LINK">
        <inertial>
            <mass value="0.251"/>
            <origin
                    rpy="0 0 0"
                    xyz="-0.000217 -0.000349 0.009761"/>
            <inertia ixx="0.0000722" ixy="-0.0000016" ixz="-0.0000037" iyy="0.0000747" iyz="0.0000004" izz="0.0000324"/>
        </inertial>
        <visual>
            <geometry>
                <mesh filename="package://alexander_V1_description/meshes/cycloidal_arm/nub.obj"/>
            </geometry>
            <origin rpy="0.0 1.57 0.0" xyz="0.0 0.0 0.0"/>
        </visual>
    </link>


    <!-- Right Arm -->
    <joint name="RIGHT_SHOULDER_Y" type="revolute">
        <origin xyz="-0.02 -0.1 0.214" rpy="-0.698132 0.0 0.0"/>
        <axis xyz="0.0 1.0 0.0"/>
        <parent link="TORSO_LINK"/>
        <child link="RIGHT_SHOULDER_Y_LINK"/>
        <limit effort="1000" lower="-3.141592" upper="1.22173" velocity="100"/>
        <dynamics damping="0.05" friction="0.0"/>
    </joint>

    <link name="RIGHT_SHOULDER_Y_LINK">
        <inertial>
            <mass value="2.99"/>
            <origin rpy="0 0 0" xyz="-0.00264 -0.12135 -0.006824"/>
            <inertia ixx="0.0110394" ixy="-0.0003041" ixz="-0.0000594" iyy="0.0051097" iyz="-0.0009183" izz="0.0116925"/>
        </inertial>
        <visual>
            <geometry>
                <mesh filename="package://alexander_V1_description/meshes/cycloidal_arm/RightShoulderPitchLink.obj"/>
            </geometry>
            <origin rpy="0.0 0.0 0.0" xyz="0.0 0.0 0.0"/>
        </visual>
    </link>

    <joint name="RIGHT_SHOULDER_X" type="revolute">
        <origin rpy="0.698132 0.0 0.0" xyz="0.0 -0.15676000 -0.01300000"/>
        <axis xyz="1 0 0"/>
        <parent link="RIGHT_SHOULDER_Y_LINK"/>
        <child link="RIGHT_SHOULDER_X_LINK"/>
        <limit effort="1000" lower="-2.79253" upper="0.349066" velocity="100"/>
        <dynamics damping="0.05" friction="0.0"/>
    </joint>

    <link name="RIGHT_SHOULDER_X_LINK">
        <inertial>
            <mass value="0.972"/>
            <origin rpy="0 0 0" xyz="0.012489 -0.01882 -0.0385"/>
            <inertia ixx="0.002949" ixy="-0.000135" ixz="-0.0003358" iyy="0.0023603" iyz="-0.0005249" izz="0.0014377"/>
        </inertial>
        <visual>
            <geometry>
                <mesh filename="package://alexander_V1_description/meshes/cycloidal_arm/RightShoulderRollLink_shortBicep.obj"/>
            </geometry>
            <origin rpy="0.0 0.0 0.0" xyz="0.0 0.0 0.0"/>
        </visual>
    </link>

    <joint name="RIGHT_SHOULDER_Z" type="revolute">
        <origin rpy="0.0 0.0 0.0" xyz="0.0 -0.035 0.0"/>
        <axis xyz="0.0 0.0 1.0"/>
        <parent link="RIGHT_SHOULDER_X_LINK"/>
        <child link="RIGHT_SHOULDER_Z_LINK"/>
        <limit effort="1000" lower="-1.22173" upper="1.91986" velocity="100"/>
        <dynamics damping="0.05" friction="0.0"/>
    </joint>

    <link name="RIGHT_SHOULDER_Z_LINK">
        <inertial>
            <mass value="2.91"/>
            <origin rpy="0 0 0" xyz="0.00524 -0.00274 -0.21745"/>
            <inertia ixx="0.0248699" ixy="0.0000211" ixz="0.0000211" iyy="0.0245973" iyz="-0.0004444" izz="0.0029883"/>
        </inertial>
        <visual>
            <geometry>
                <mesh filename="package://alexander_V1_description/meshes/cycloidal_arm/RightShoulderYawLink.obj"/>
            </geometry>
            <origin rpy="0.0 0.0 0.0" xyz="0.0 0.0 0.0867"/>
        </visual>
    </link>

    <joint name="RIGHT_ELBOW_Y" type="revolute">
        <origin rpy="0.0 0.0 0.0" xyz="0.015 0.0 -0.3127"/>
        <axis xyz="0.0 1.0 0.0"/>
        <parent link="RIGHT_SHOULDER_Z_LINK"/>
        <child link="RIGHT_ELBOW_Y_LINK"/>
        <limit effort="1000" lower="-2.35619" upper="0.174532925" velocity="100"/>
        <dynamics damping="0.05" friction="0.0"/>
    </joint>

    <link name="RIGHT_ELBOW_Y_LINK">
        <inertial>
            <mass value="0.45"/>
            <origin xyz="-0.0127 0.006913 -0.048421" rpy="0 0 0"/>
            <inertia ixx="0.0006446" ixy="-0.0000073" ixz="-0.0000345" iyy="0.000625" iyz="-0.0001257" izz="0.0003922"/>
        </inertial>
        <visual>
            <geometry>
                <mesh filename="package://alexander_V1_description/meshes/cycloidal_arm/RightElbowPitchLink.obj"/>
            </geometry>
            <origin rpy="0.0 0.0 0.0" xyz="0.0 0.0 0.0"/>
        </visual>
    </link>

    <joint name="RIGHT_WRIST_Z" type="revolute">
        <origin xyz="-0.015 0.0 0.0" rpy="0.0 0.0 0.0"/>
        <axis xyz="0.0 0.0 1.0"/>
        <parent link="RIGHT_ELBOW_Y_LINK"/>
        <child link="RIGHT_WRIST_Z_LINK"/>
        <limit effort="20.0" lower="-2.61799" upper="2.61799" velocity="25.0"/>
        <dynamics damping="0.05" friction="0.0"/>
    </joint>

    <link name="RIGHT_WRIST_Z_LINK">
        <inertial>
            <mass value="1.547"/> <!-- This is a measured value. Refer to https://docs.google.com/spreadsheets/d/1VXWFJk3VJUsfkHrDaytB2INq94un1KytIOzcKJD0p44/edit?gid=0#gid=0  -->
            <origin xyz="-0.002616 0.000462 -0.13019" rpy="0 0 0"/>
            <inertia ixx="0.0037805" ixy="-0.0000177" ixz="-0.000025" iyy="0.0040639" iyz="0.00009" izz="0.0015151"/>
        </inertial>
        <visual>
            <geometry>
                <mesh filename="package://alexander_V1_description/meshes/cycloidal_arm/RightWristYawLink.obj"/>
            </geometry>
            <origin rpy="0.0 0.0 0.0" xyz="0.0 0.0 0.0"/>
        </visual>
    </link>

    <joint name="RIGHT_WRIST_X" type="revolute">
        <origin xyz="0.0 0.013 -0.25" rpy="0.0 0.0 0.0"/>
        <axis xyz="1 0 0"/>
        <parent link="RIGHT_WRIST_Z_LINK"/>
        <child link="RIGHT_WRIST_X_LINK"/>
        <limit effort="20.0" lower="-0.610865" upper="1.8326" velocity="25.0"/>
        <dynamics damping="0.05" friction="0.0"/>
    </joint>

    <link name="RIGHT_WRIST_X_LINK">
        <inertial>
            <mass value="0.909"/> <!-- This is a measured value. Refer to https://docs.google.com/spreadsheets/d/1VXWFJk3VJUsfkHrDaytB2INq94un1KytIOzcKJD0p44/edit?gid=0#gid=0  -->
            <origin xyz="-0.0000481 -0.012143 0.000196" rpy="0 0 0"/>
            <inertia ixx="0.0005535" ixy="0.0000081" ixz="-0.0000231" iyy="0.0005559" iyz="0.0000012" izz="0.0005893"/>
        </inertial>
        <visual>
            <geometry>
                <mesh filename="package://alexander_V1_description/meshes/cycloidal_arm/RightWristRollLink.obj"/>
            </geometry>
            <origin rpy="0.0 0.0 0.0" xyz="0.0 0.0 0.0"/>
        </visual>
    </link>

    <joint name="RIGHT_GRIPPER_Z" type="revolute">
        <origin xyz="0.0 -0.013 -0.031" rpy="0.0 0.0 0.0"/>
        <axis xyz="0.0 0.0 1.0"/>
        <parent link="RIGHT_WRIST_X_LINK"/>
        <child link="RIGHT_GRIPPER_Z_LINK"/>
        <limit effort="20.0" lower="-2.61799" upper="2.61799" velocity="25.0"/>
        <dynamics damping="0.05" friction="0.0"/>
    </joint>

    <link name="RIGHT_GRIPPER_Z_LINK">
        <inertial>
            <mass value="0.251"/>
            <origin rpy="0 0 0" xyz="-0.000217 -0.000349 0.009761"/>
            <inertia ixx="0.0000722" ixy="-0.0000016" ixz="-0.0000037" iyy="0.0000747" iyz="0.0000004" izz="0.0000324"/>
        </inertial>
        <visual>
            <geometry>
                <mesh filename="package://alexander_V1_description/meshes/cycloidal_arm/nub.obj"/>
            </geometry>
            <origin rpy="0.0 1.57 0.0" xyz="0.0 0.0 0.0"/>
        </visual>
    </link>


    <!-- GRIPPER JOINTS AND LINKS -->
    <joint name="RIGHT_GRIPPER_ATTACHMENT_FIXED" type="fixed">
         <origin rpy="-3.141592 0 3.141592" xyz="0 0 -0.02560000"/>
         <parent link="RIGHT_GRIPPER_Z_LINK"/>
         <child link="RIGHT_GRIPPER_ATTACHMENT_FIXED_LINK"/>
     </joint>

     <joint name="LEFT_GRIPPER_ATTACHMENT_FIXED" type="fixed">
         <origin rpy="3.141592 0 0" xyz="0 0 -0.02560000"/>
         <parent link="LEFT_GRIPPER_Z_LINK"/>
         <child link="LEFT_GRIPPER_ATTACHMENT_FIXED_LINK"/>
     </joint>

    <!-- Left Psyonic Ability Hand -->
     <link name="LEFT_GRIPPER_ATTACHMENT_FIXED_LINK">
         <visual name="wrist_mesh">
             <origin rpy="0 0 0" xyz="0 0 0"/>
             <geometry>
                 <mesh filename="package://alexander_V1_description/meshes/wristmesh.obj"/>
             </geometry>
         </visual>
         <inertial>   <!-- the mass and inertia here are NOT correct -->
             <mass value="1.00"/>
             <inertia ixx="978.26e-6" ixy="87.34e-6" ixz="322.99e-6" iyy="1244.78e-6" iyz="244.74e-6" izz="456.22e-6"/>
             <origin xyz="22.41911e-3 -0.15798201e-3 -0.01319866e-3" rpy="0 0 0"/>
         </inertial>
     </link>

    <!-- Right Psyonic Ability Hand -->
     <link name="RIGHT_GRIPPER_ATTACHMENT_FIXED_LINK">
         <visual name="wrist_mesh">
             <origin rpy="0 0 0" xyz="0 0 0"/>
             <geometry>
                 <mesh filename="package://alexander_V1_description/meshes/wristmesh.obj"/>
             </geometry>
         </visual>
         <inertial>    <!-- the mass and inertia here are NOT correct -->
             <mass value="1.00"/>
             <inertia ixx="978.26e-6" ixy="87.34e-6" ixz="322.99e-6" iyy="1244.78e-6" iyz="244.74e-6" izz="456.22e-6"/>
             <origin xyz="22.41911e-3 -0.15798201e-3 -0.01319866e-3" rpy="0 0 0"/>
         </inertial>
     </link>
</robot>
